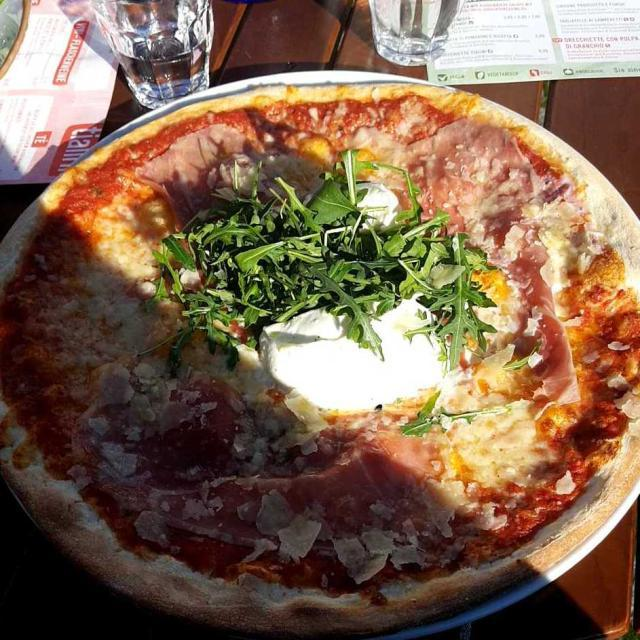Pizza: (0, 85, 640, 638)
